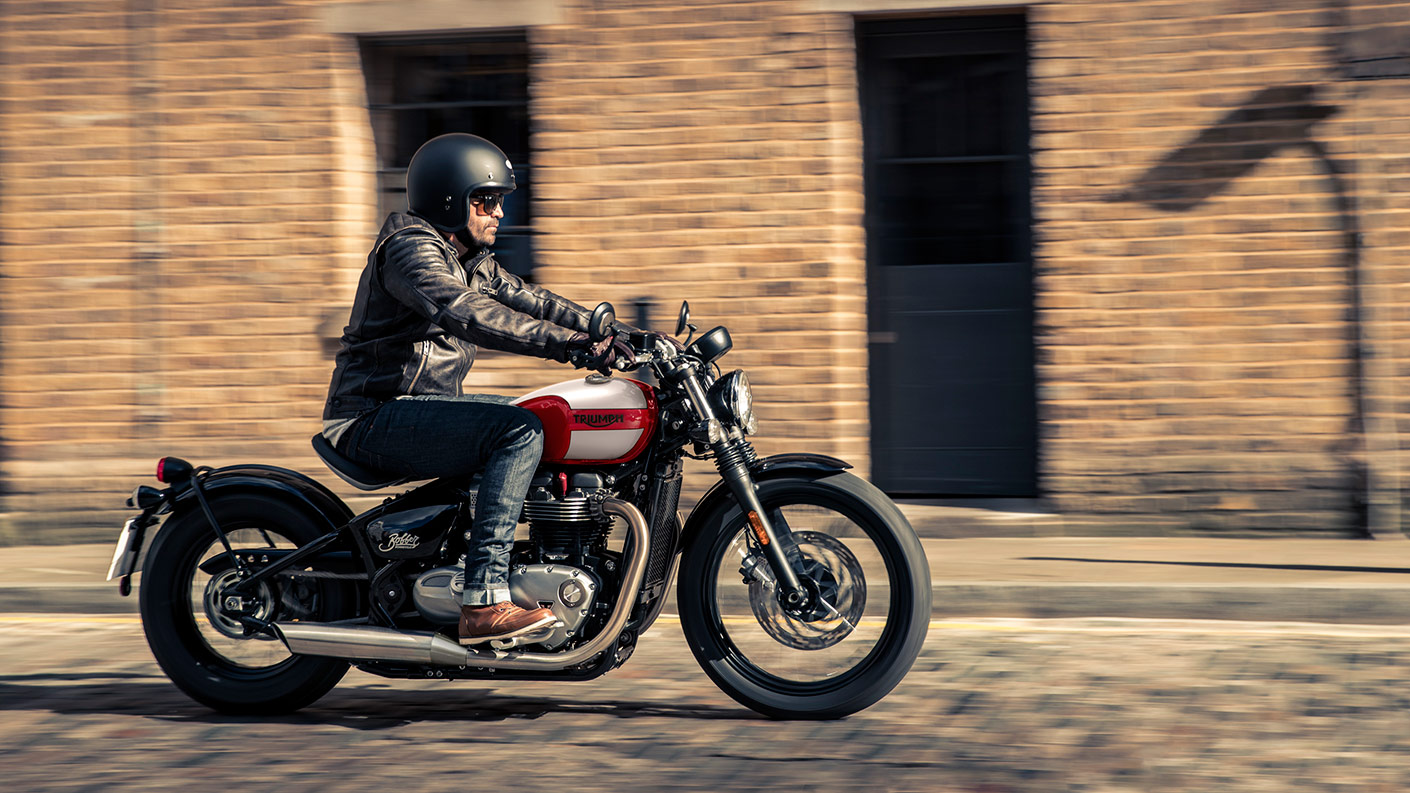helmet: (347, 89, 685, 504)
